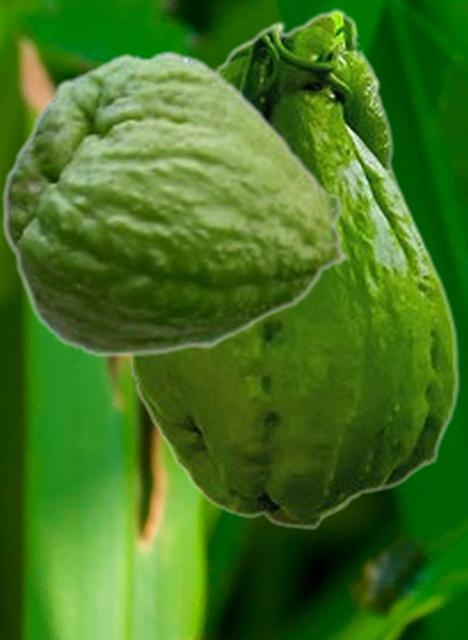sayote: (128, 8, 460, 530), (1, 49, 350, 358)
